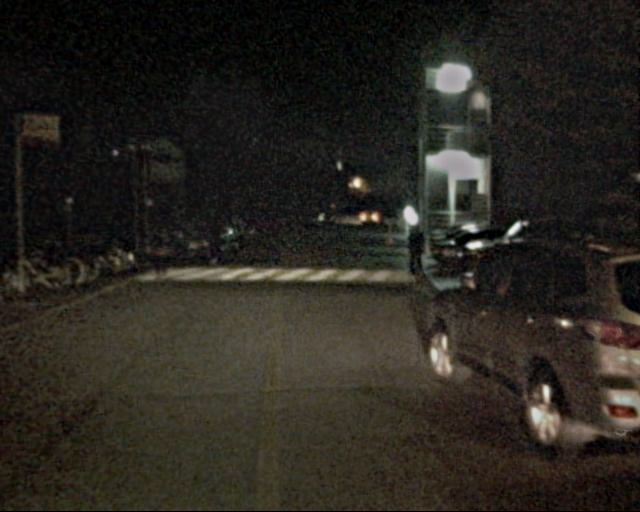person: (401, 226, 426, 288), (145, 219, 169, 277), (198, 219, 216, 262)
